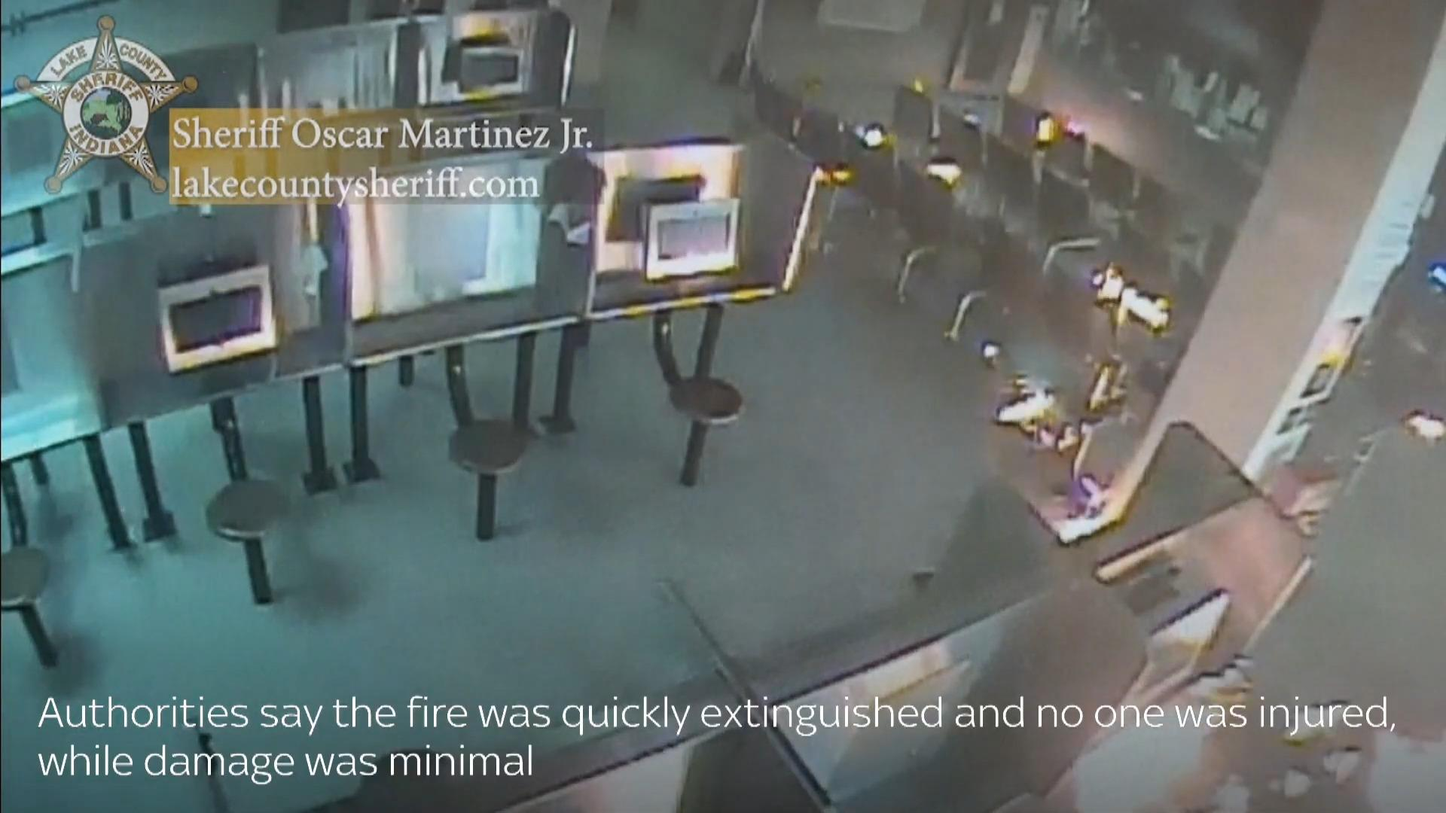fire: (1067, 708, 1246, 813), (1368, 723, 1446, 813), (1093, 263, 1168, 329), (995, 378, 1055, 422)
